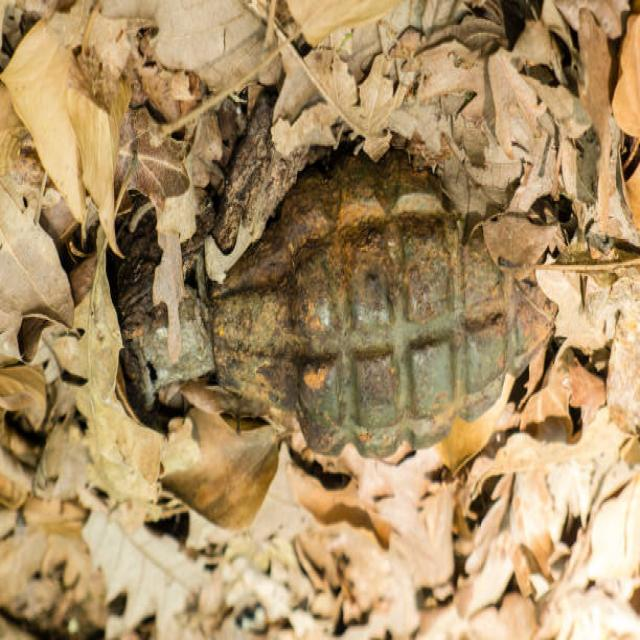grenade: (119, 138, 568, 470)
